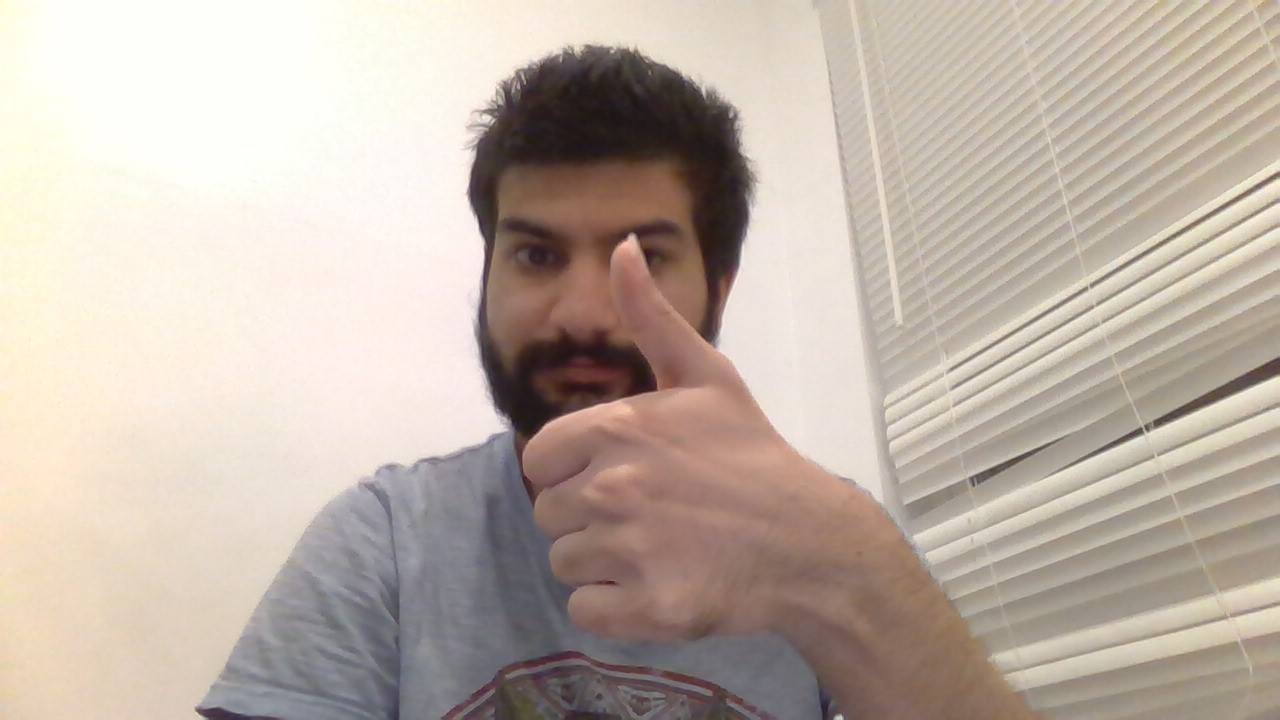up: (517, 229, 789, 654)
